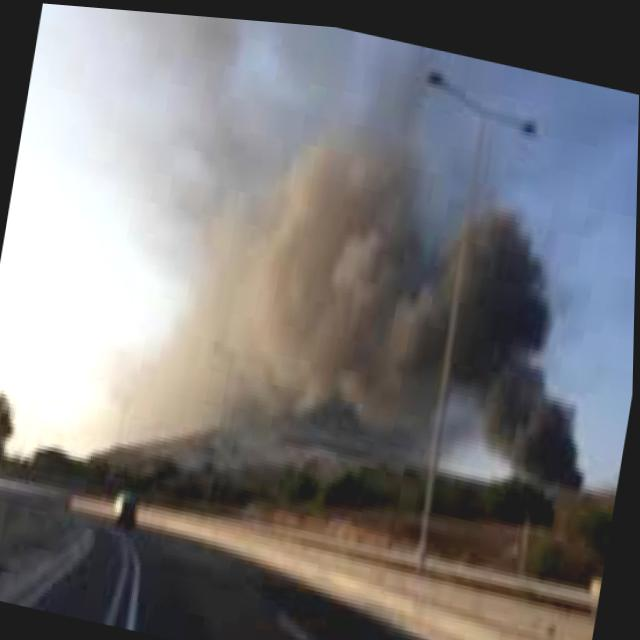Smoke: (185, 107, 637, 518)
